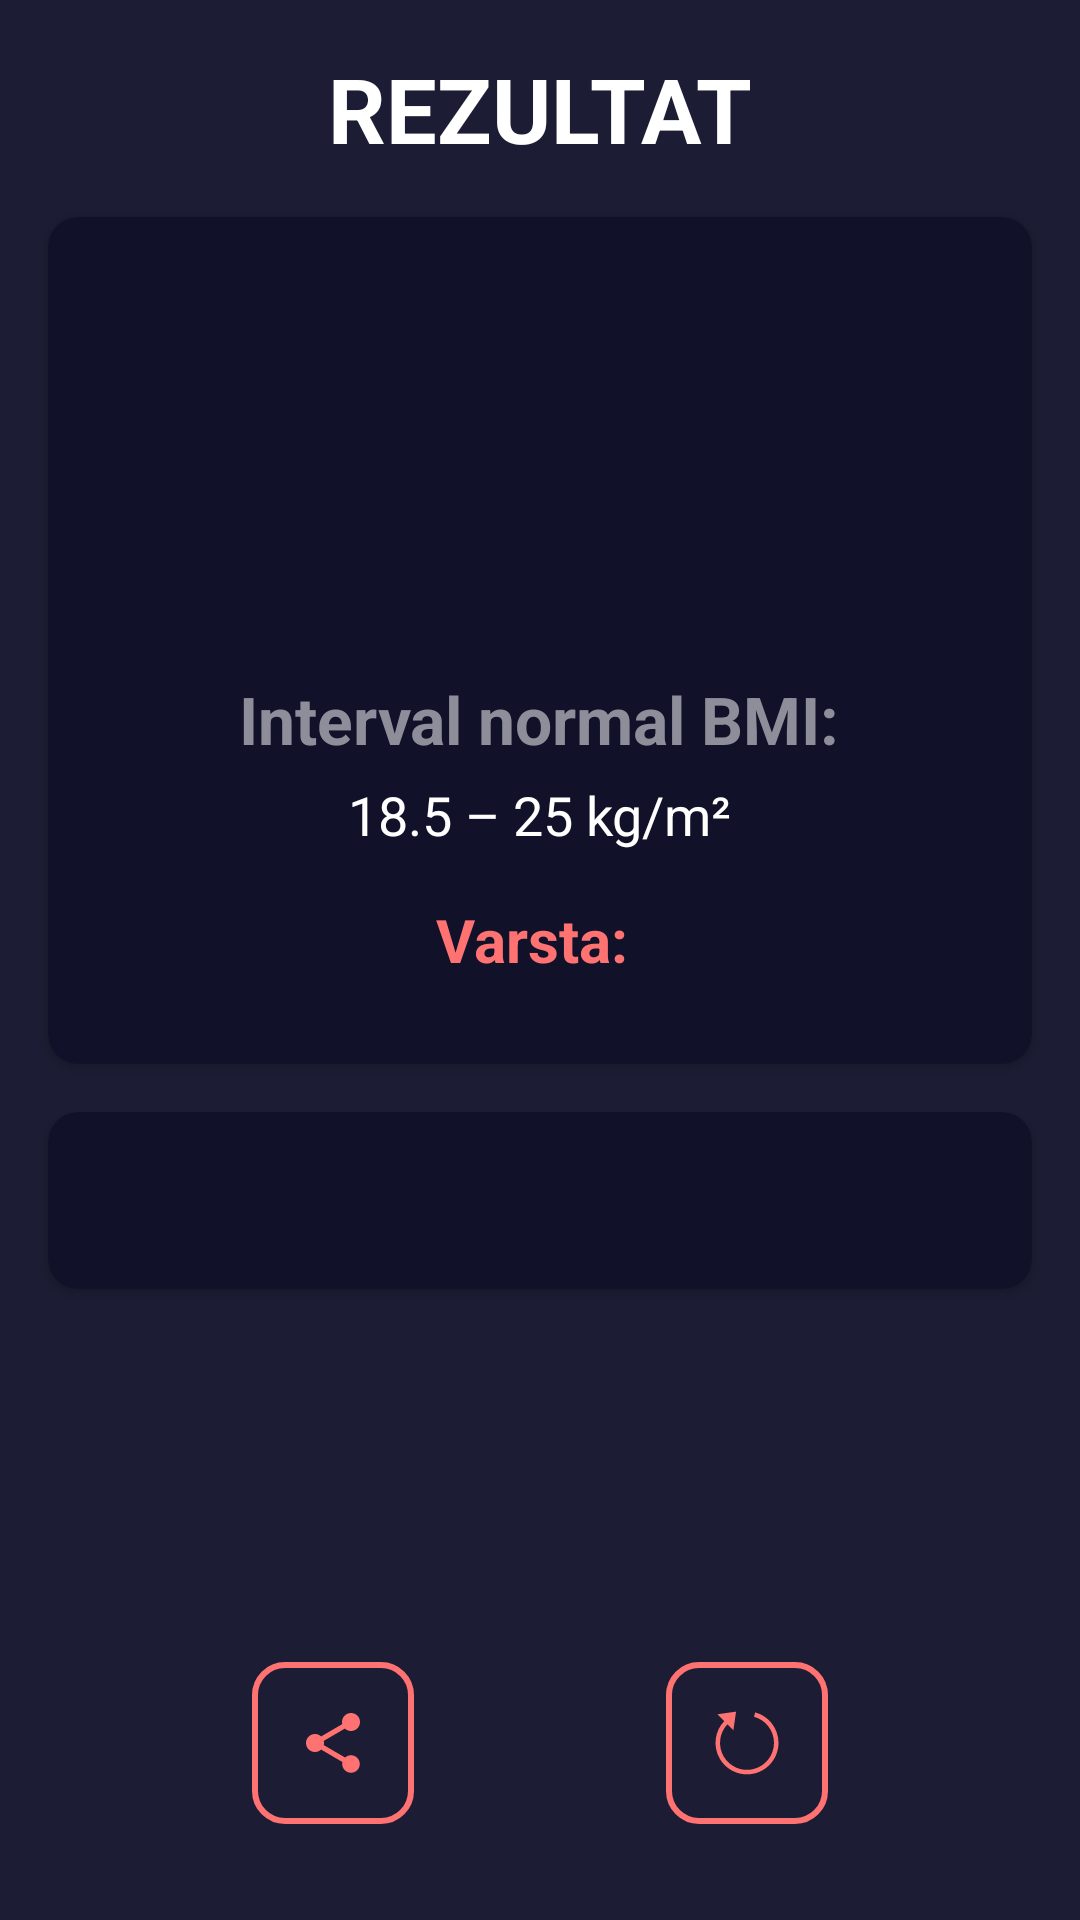

Named icons in this screenshot (1080×1920) and their bounding boxes, (x1, y1, x2, y2):
Distribuie rezultatul: (252, 1662, 414, 1824)
Recalculate your BMI: (666, 1662, 828, 1824)
